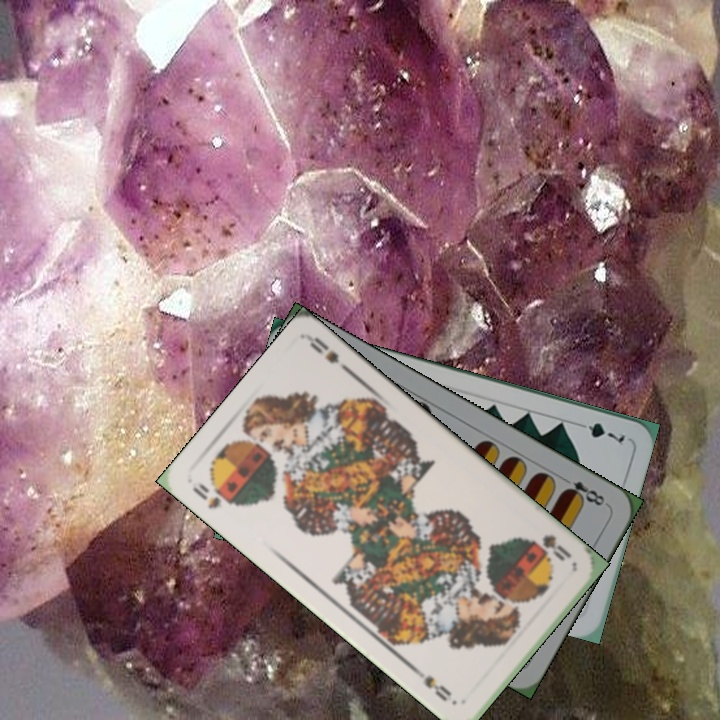E8: (557, 473, 611, 509)
G7: (571, 418, 628, 446)
SO: (527, 530, 575, 564), (188, 479, 224, 512)
